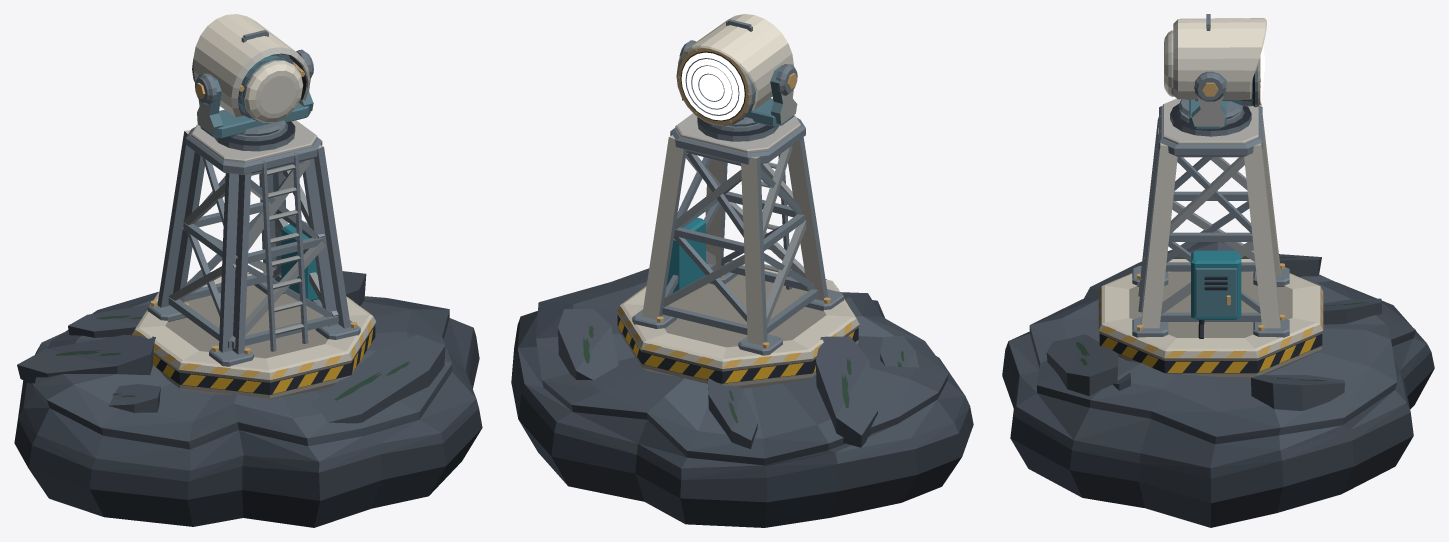
The model's file is searchlight_tower.glb.
The picture shows the model from 3 angles, left to right: view 1: azimuth 30°, elevation 25°; view 2: azimuth 150°, elevation 25°; view 3: azimuth 270°, elevation 25°; orthographic projection.
Visible parts, largest first — view 1: searchlight_tower_mineral, searchlight_tower_wet, searchlight_tower_metal, searchlight_tower_cast, head_cast, head_metal; view 2: searchlight_tower_mineral, searchlight_tower_wet, searchlight_tower_metal, searchlight_tower_cast, head_cast, head_metal, lens_lens, lens_metal; view 3: searchlight_tower_mineral, searchlight_tower_wet, searchlight_tower_metal, searchlight_tower_cast, head_cast, head_metal.
Boxes of the visible parts, x1,y1,x2,y2 form: searchlight_tower_mineral: (17,271,478,481); searchlight_tower_wet: (14,337,482,527); searchlight_tower_metal: (147,121,375,394); searchlight_tower_cast: (132,120,371,379); head_cast: (193,14,310,122); head_metal: (192,30,313,138); searchlight_tower_mineral: (514,260,969,479); searchlight_tower_wet: (511,328,973,527); searchlight_tower_metal: (617,117,858,383); searchlight_tower_cast: (617,113,857,368); head_cast: (678,14,793,110); head_metal: (676,19,797,126); lens_lens: (681,52,744,120); lens_metal: (685,58,739,115); searchlight_tower_mineral: (1005,242,1431,478); searchlight_tower_wet: (1002,350,1434,527); searchlight_tower_metal: (1099,104,1322,373); searchlight_tower_cast: (1098,98,1322,357); head_cast: (1164,18,1266,99); head_metal: (1178,14,1260,129).
Size of the model in its own units: 4.4 by 3.88 by 3.71.
